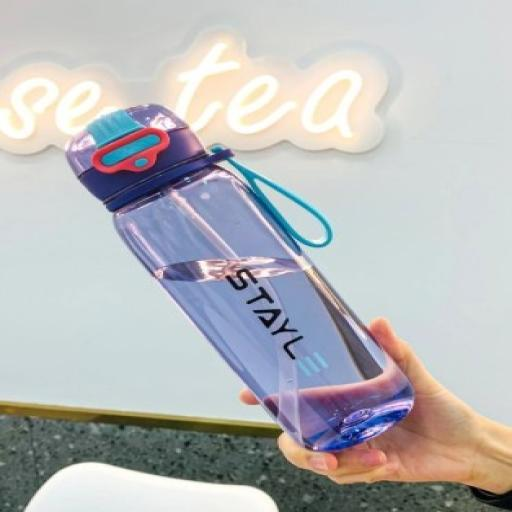bottle: (56, 94, 420, 460)
